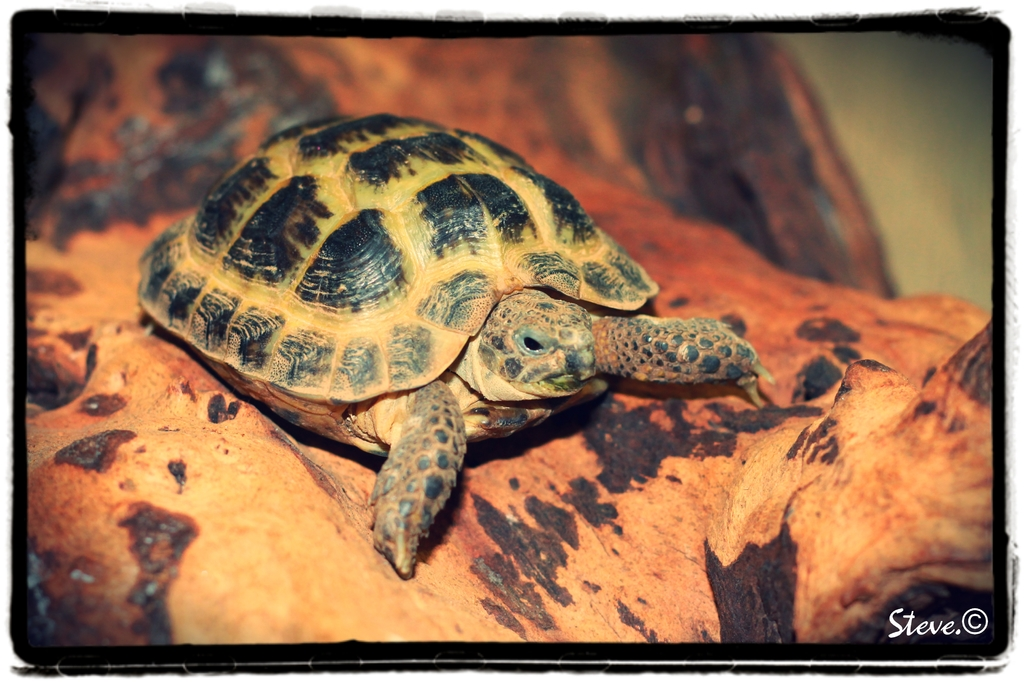Sea turtles: (133, 105, 775, 588)
